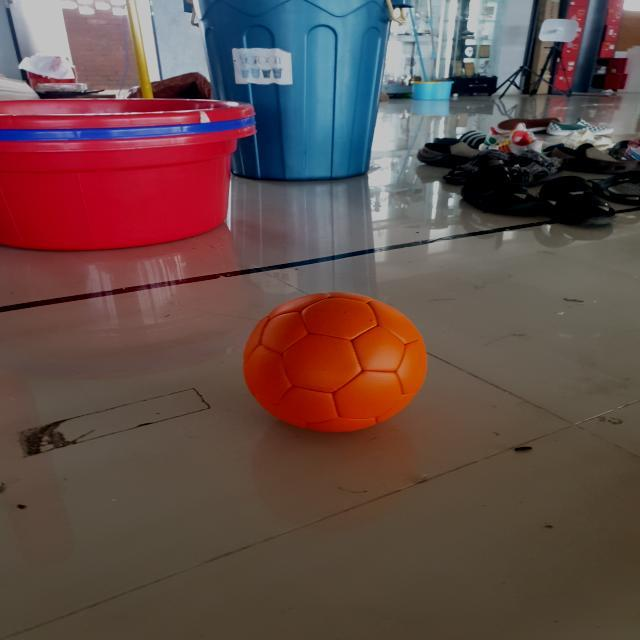bola: (241, 289, 433, 438)
